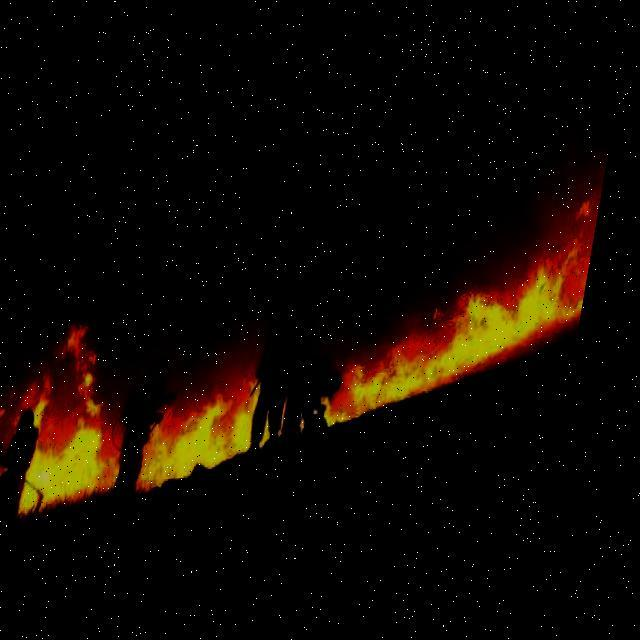Fire: (0, 207, 606, 528)
